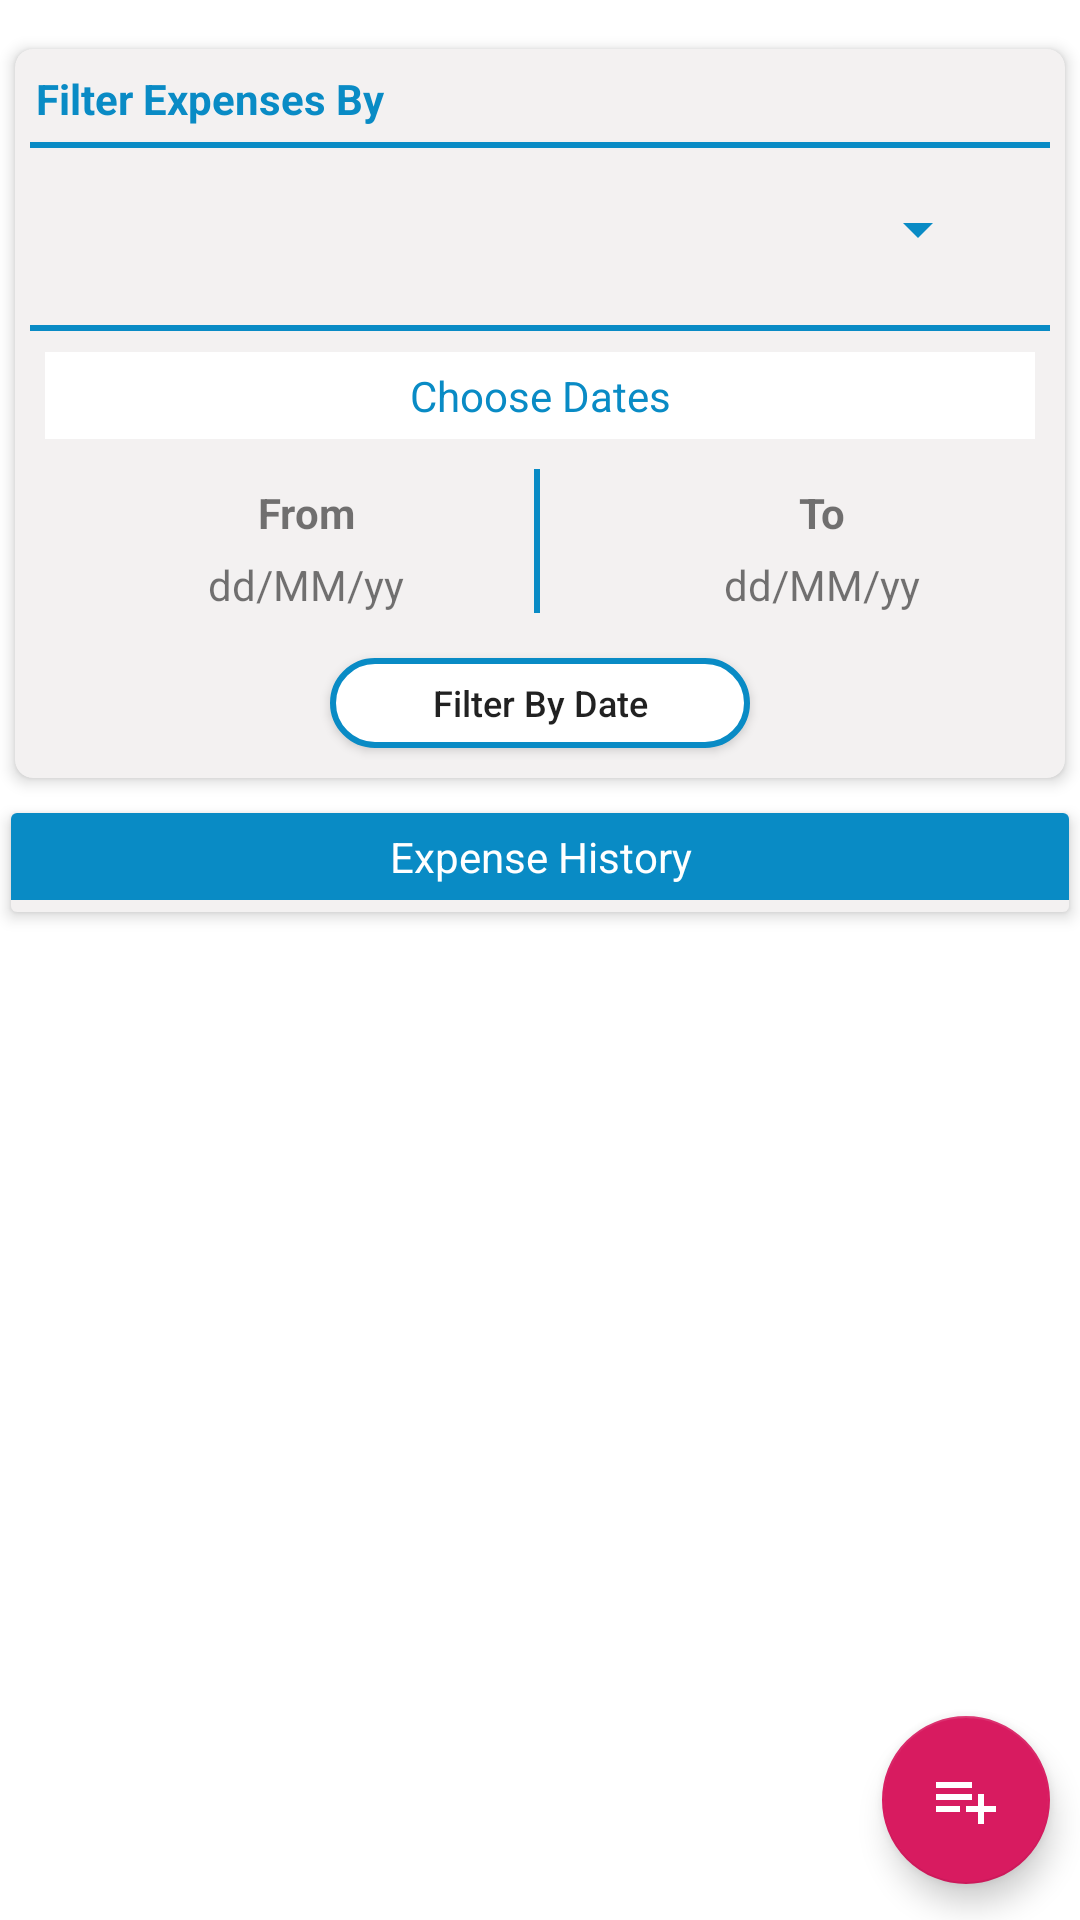

Icon bounding boxes for this 1080*1920 phone screenshot, format (x1, y1, x2, y2):
expense add: (882, 1716, 1050, 1884)
